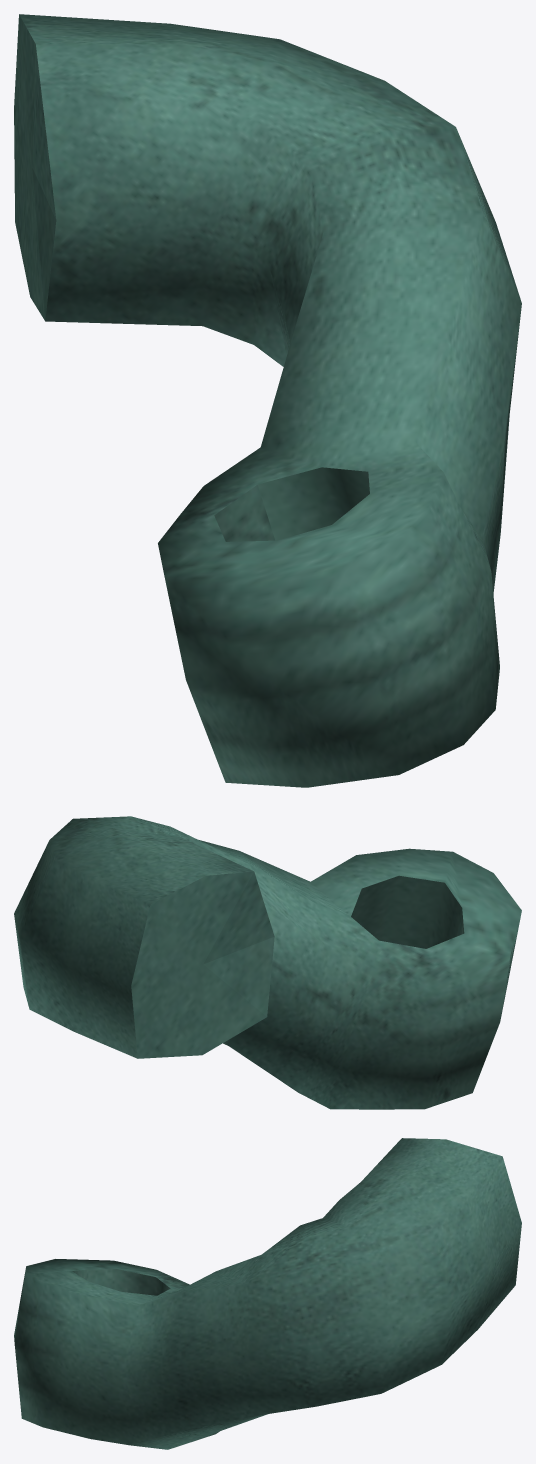
Rendered from boss手.FBX.
The picture shows the model from 3 angles, top to bottom: view 1: azimuth 30°, elevation 25°; view 2: azimuth 150°, elevation 25°; view 3: azimuth 270°, elevation 25°; orthographic projection. The views are drawn at different scales.
Parts seen in each view (by area): view 1: shou; view 2: shou; view 3: shou.
Part boxes in pixels (x1,y1,x2,y2): shou: (14, 14, 521, 787); shou: (14, 816, 521, 1109); shou: (14, 1138, 521, 1449).
Size of the model in its own units: 42.77 by 40.87 by 63.7.
